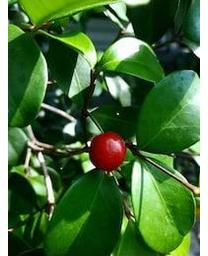cherry: (89, 132, 125, 172)
